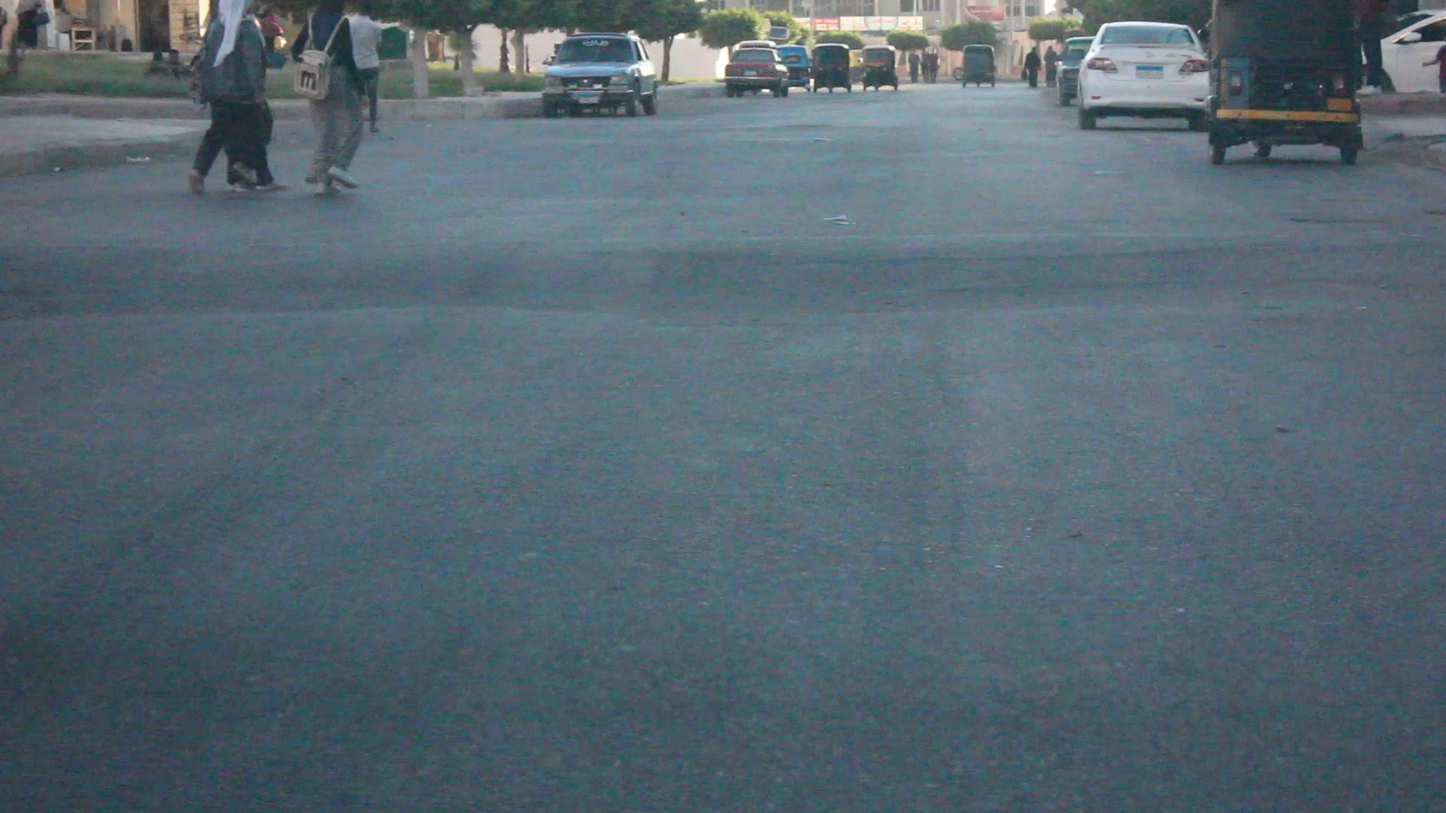Bump: (13, 220, 1446, 348)
